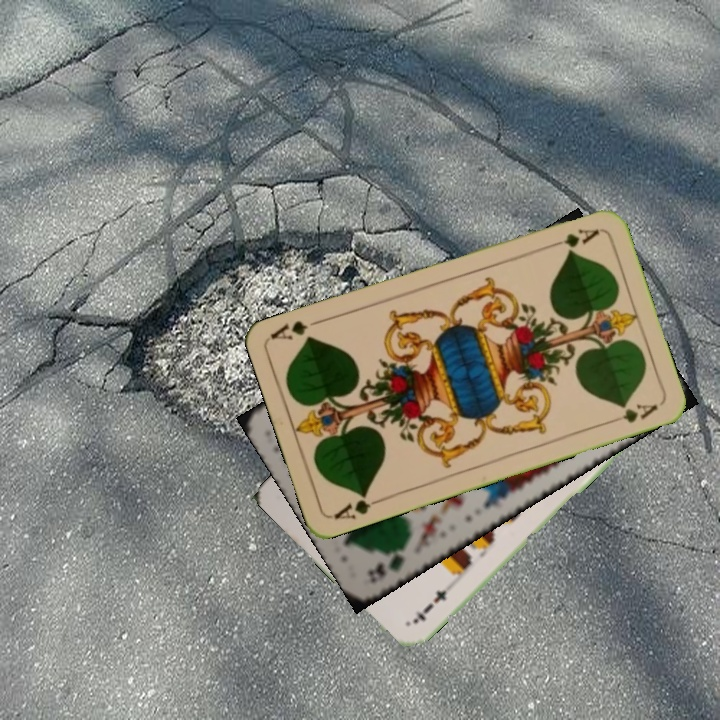E7: (409, 585, 450, 627)
GA: (329, 488, 387, 522), (544, 224, 602, 253)
GK: (363, 539, 412, 586)
